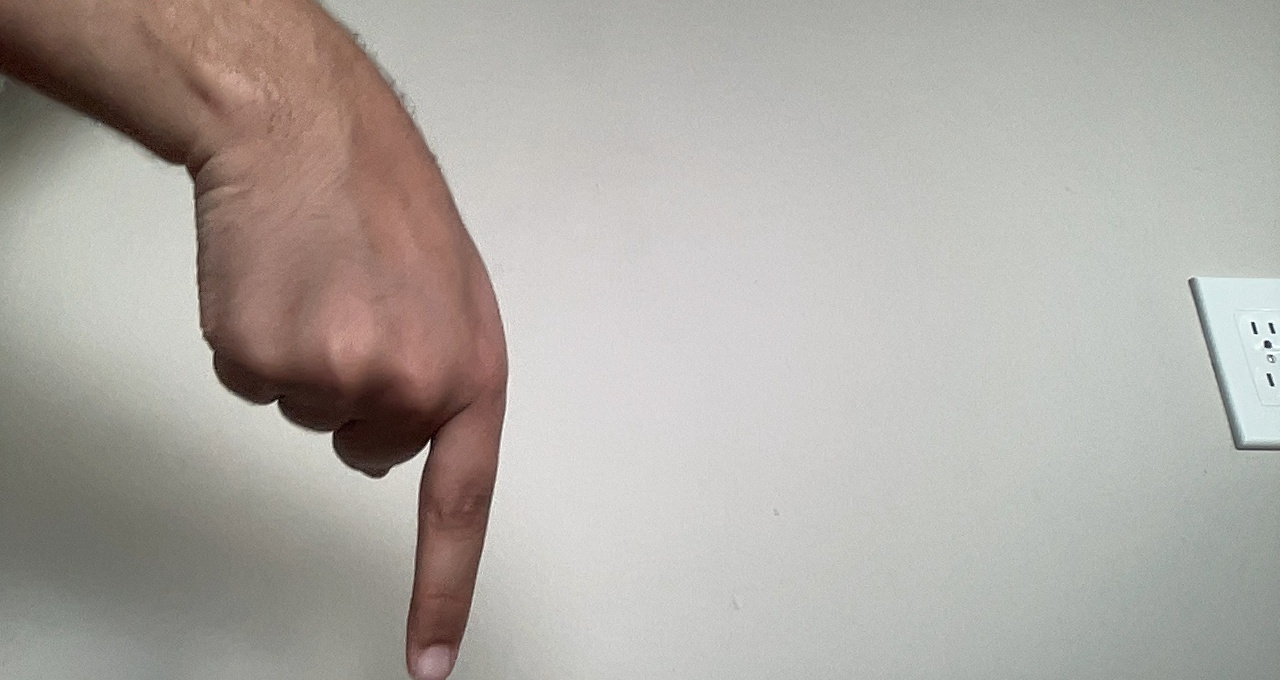fingerdown: (131, 151, 515, 678)
